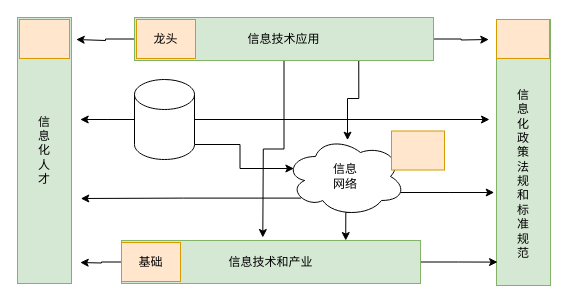
Some shapes in this 568 by 303 pixel diagram are drawn without their labels. The shapes that lost their labels are listed below. From the top down, each one's centre as x and y in pixels, then its label:
At point 44,38: "成功 之本".
At point 523,38: "根本保障".
At point 164,119: "信息 资源".
At point 417,150: "信息 设施".
